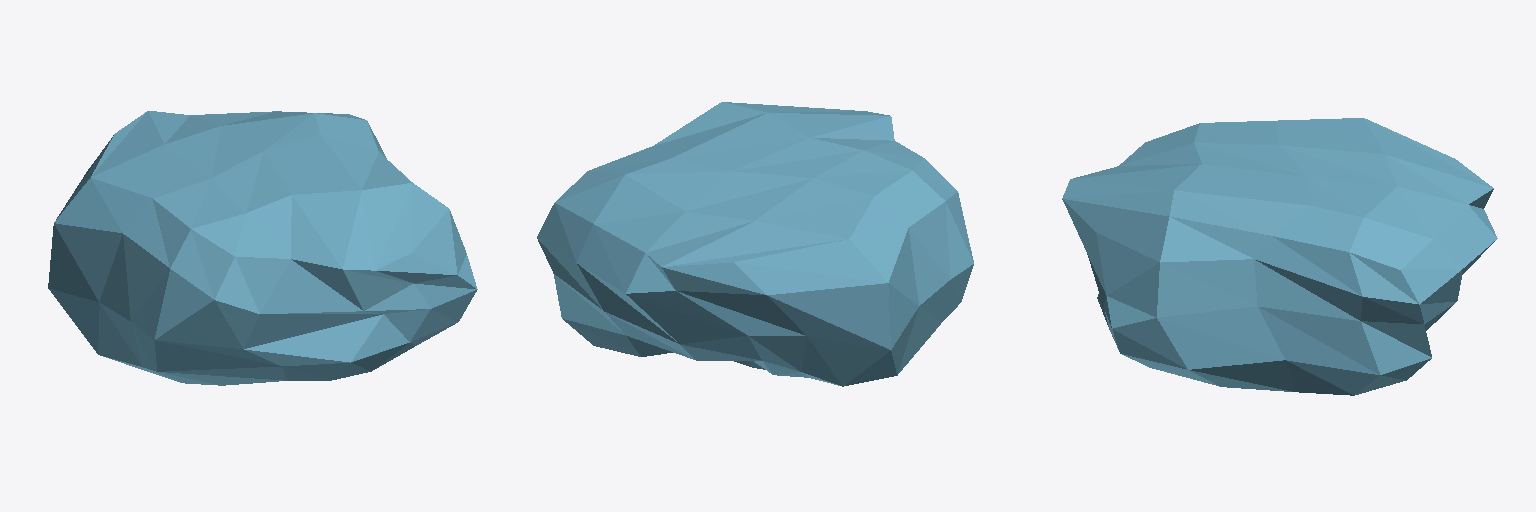
The model's file is Rock1.obj.
The picture shows the model from 3 angles: view 1: azimuth 30°, elevation 25°; view 2: azimuth 150°, elevation 25°; view 3: azimuth 270°, elevation 25°; orthographic projection.
Visible parts, largest first — view 1: Cube; view 2: Cube; view 3: Cube.
Part boxes in pixels (bbox=[...]): Cube: bbox=[48, 111, 477, 385]; Cube: bbox=[537, 102, 973, 386]; Cube: bbox=[1062, 118, 1497, 395].
Bounding box in the file's own units: 3.18 × 1.68 × 3.63.